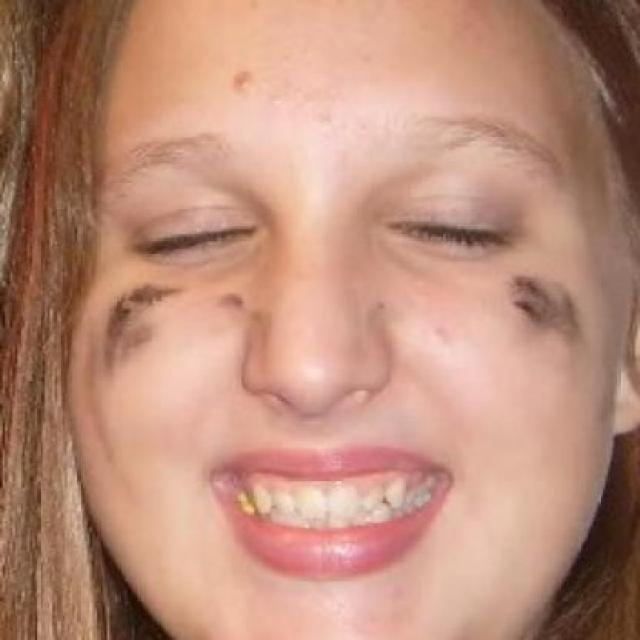drowsy: (115, 204, 260, 271), (382, 203, 512, 271)
